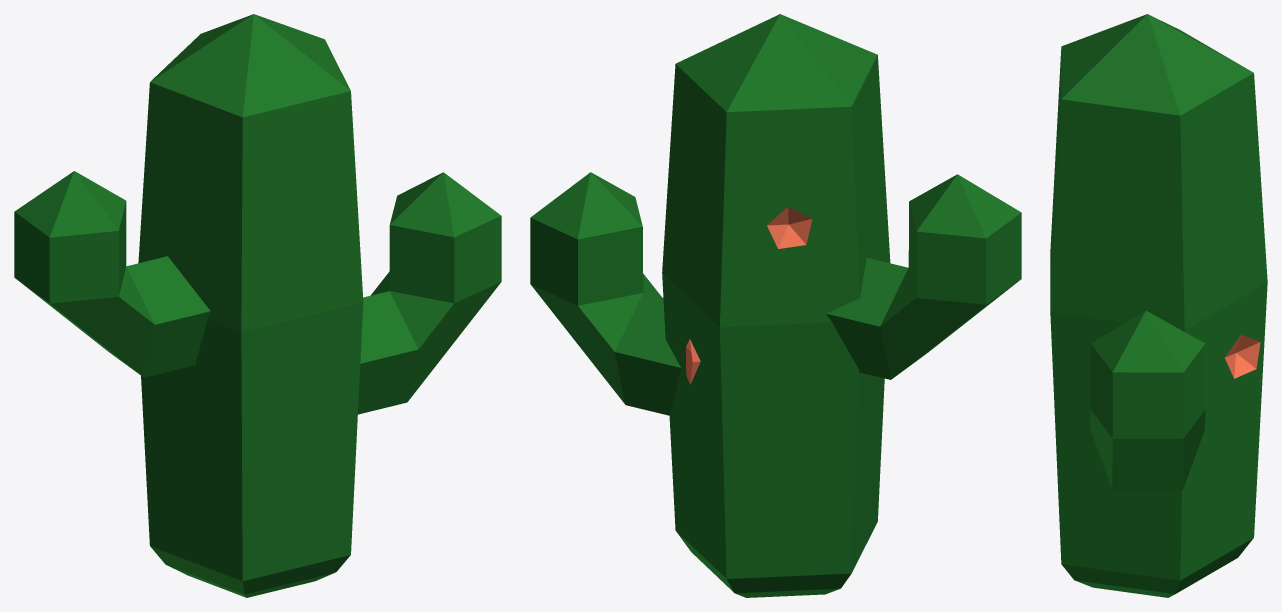
The model's file is cactus.glb.
3 views of the same model, side by side, from view 1: azimuth 30°, elevation 25°; view 2: azimuth 150°, elevation 25°; view 3: azimuth 270°, elevation 25° (orthographic).
Parts seen in each view (by area): view 1: Circle, Circle.001, Circle.003; view 2: Circle, Circle.003, Circle.001, Icosphere; view 3: Circle, Circle.003, Icosphere.001.
Boxes of the visible parts, x1=… form: Circle: x1=138, y1=14, x2=363, y2=597; Circle.001: x1=14, y1=171, x2=210, y2=377; Circle.003: x1=358, y1=172, x2=501, y2=414; Circle: x1=662, y1=14, x2=890, y2=597; Circle.003: x1=530, y1=172, x2=681, y2=415; Circle.001: x1=826, y1=174, x2=1021, y2=379; Icosphere: x1=767, y1=207, x2=812, y2=248; Circle: x1=1050, y1=14, x2=1267, y2=597; Circle.003: x1=1090, y1=310, x2=1205, y2=490; Icosphere.001: x1=1224, y1=335, x2=1260, y2=378.
Size of the model in its own units: 2.95 by 3.46 by 1.22.
